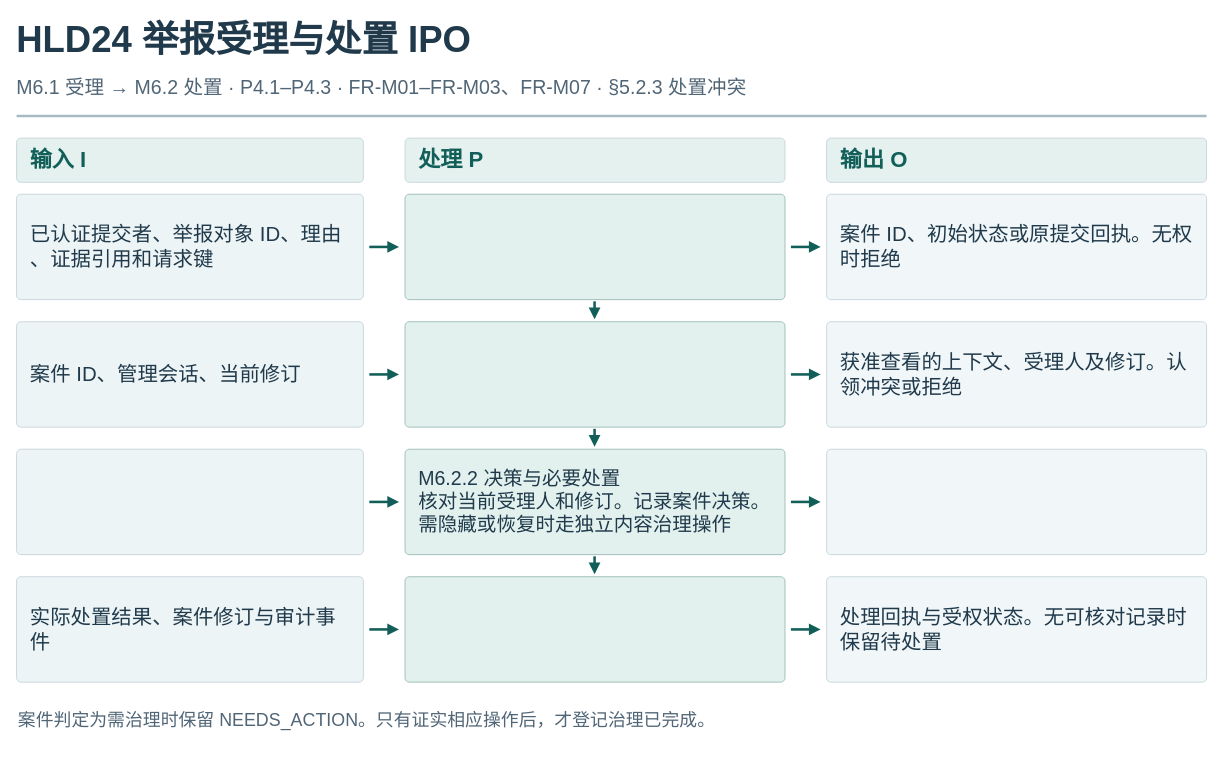
Image size: 1223x757. Some labels were removed from this diagram. Each missing label, with the centre of its shape:
"M6.1 收件并关联证据 验证目标与证据归属，保存案件和关联上 下文" belongs at point (594, 246).
"M6.2.1 调取上下文并认领 核对管理域权限，读取对应文章／评论、 证据及当前受理人，按规则认领" belongs at point (594, 374).
"M6.2.3 回执与可见记录 核实已发生的治理操作，登记案件状态和 允许查看的反馈" belongs at point (594, 629).
"已认领案件、理由、请求键、案件 及对象修订" belongs at point (189, 501).
"案件决策及已记录的治理事件。需后续 治理时返回待处置状态" belongs at point (1016, 501).
